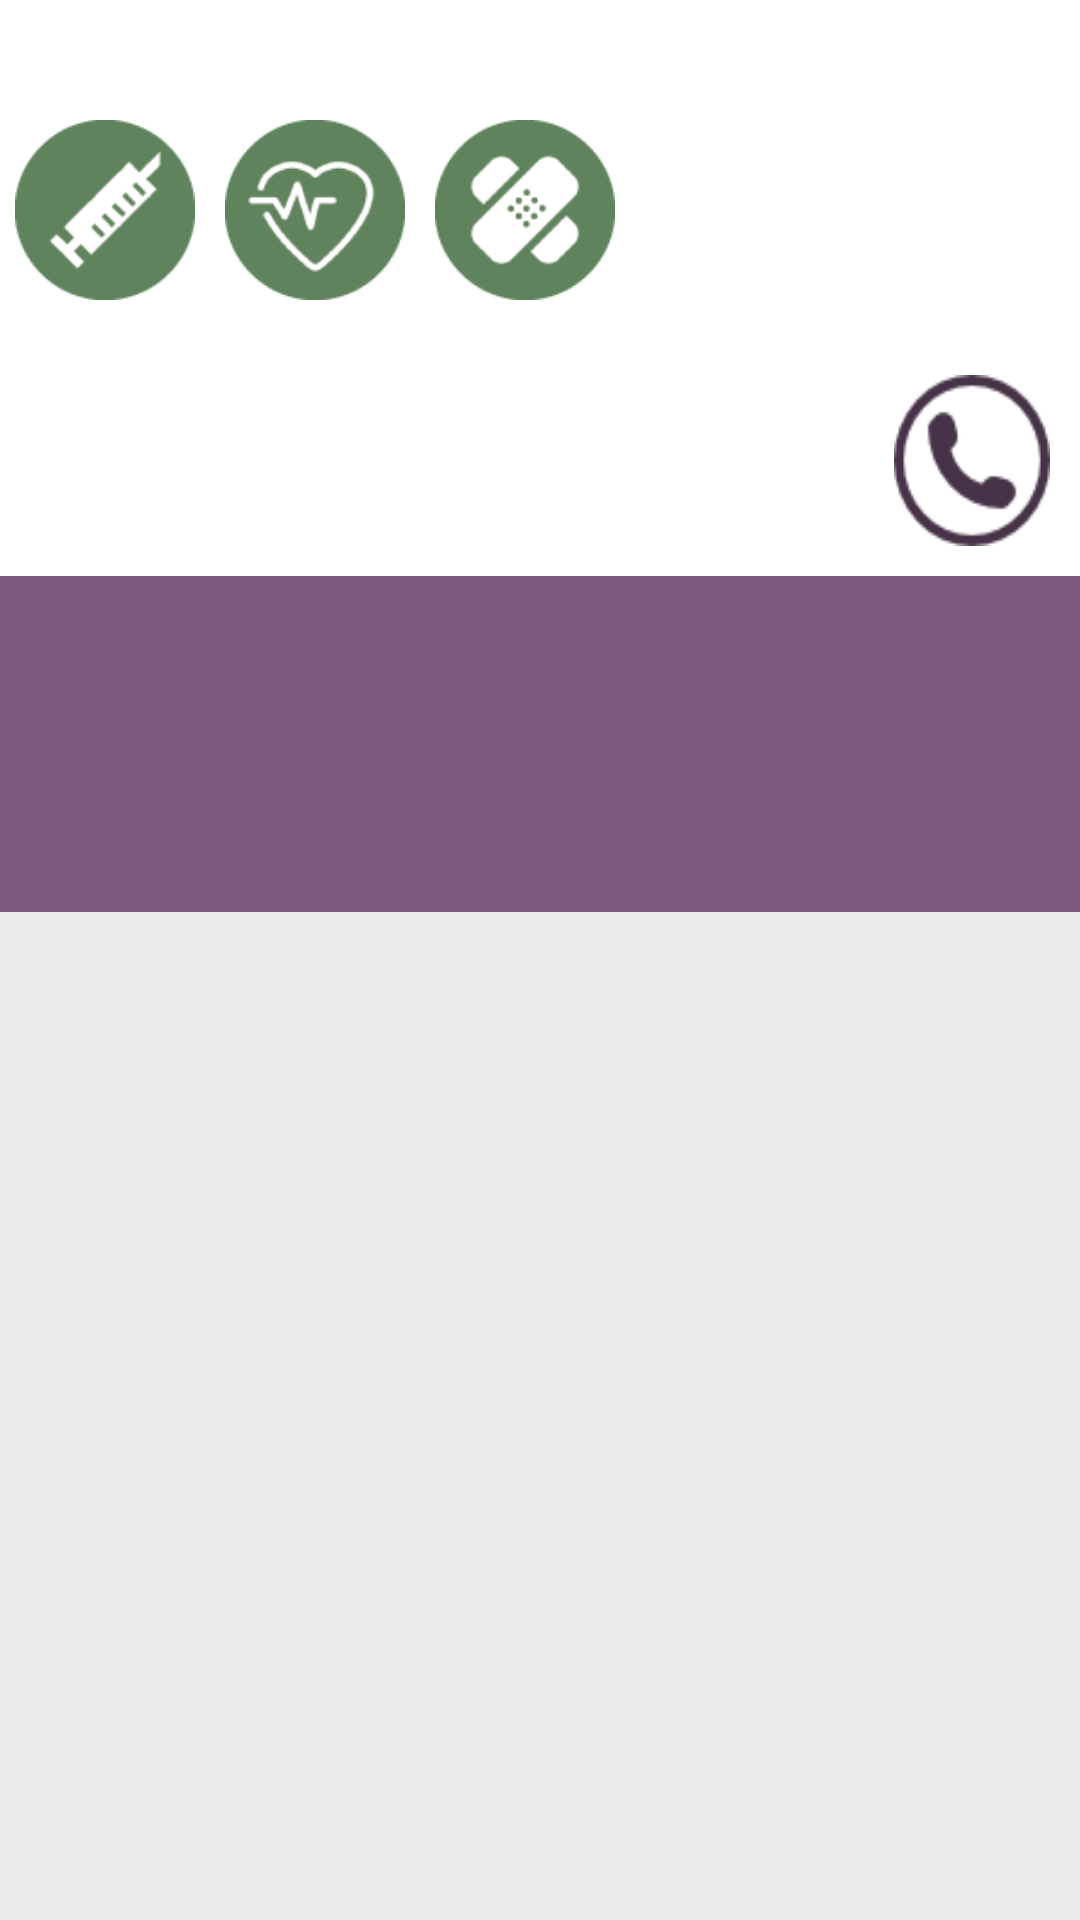

Screen size 1080x1920. Icon name, then its center in pixels as (x=x, y=y):
phone: (x=972, y=460)
